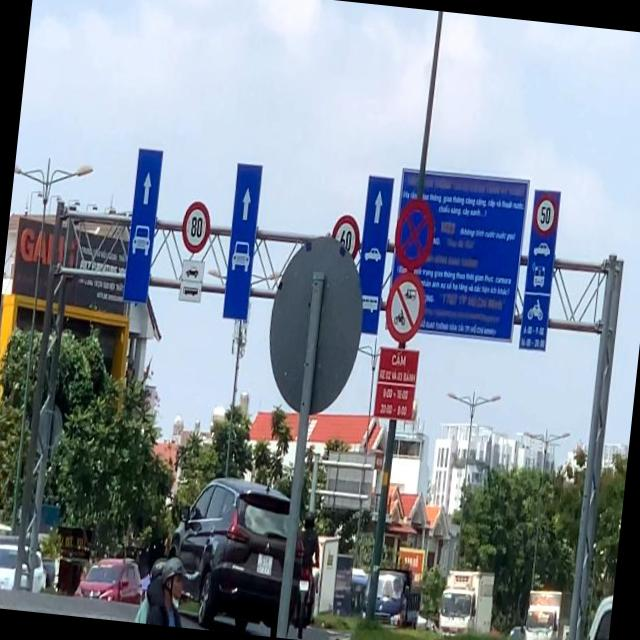P-104: (382, 271, 428, 343)
P-130: (390, 196, 435, 272)
